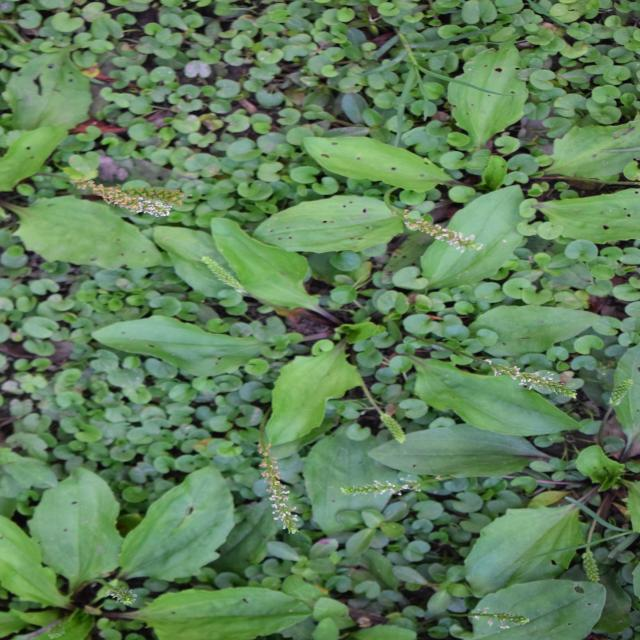plantain: (155, 103, 430, 570), (357, 288, 572, 622)
